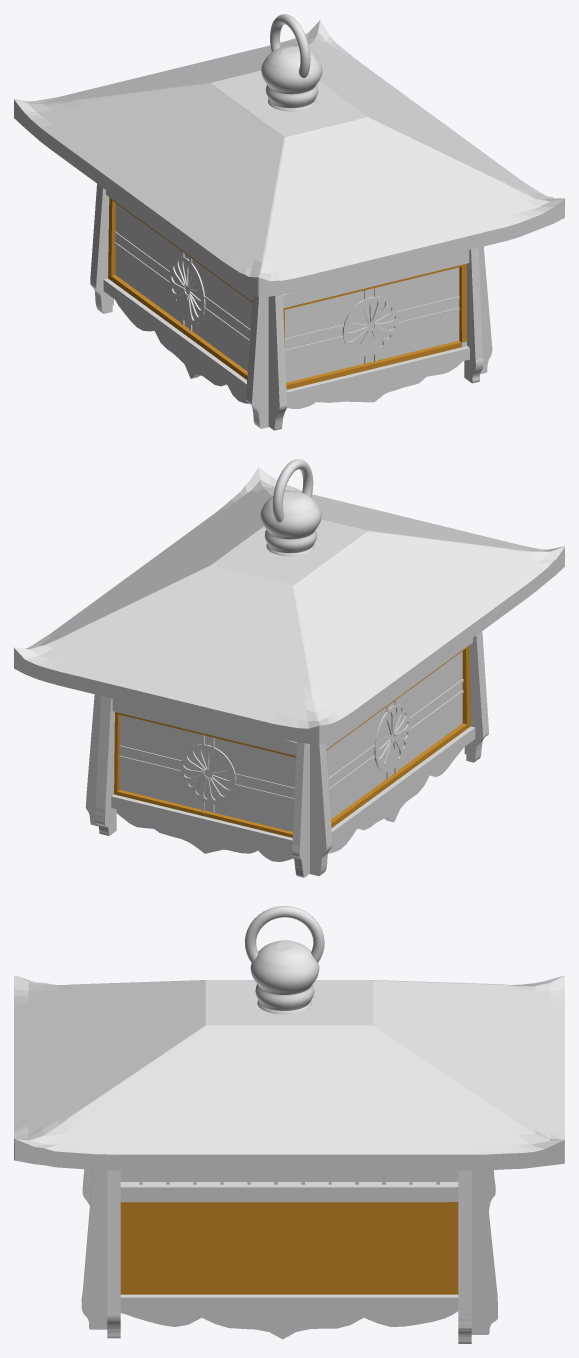
File: Japanese-Dach.fbx
The picture shows the model from 3 angles, top to bottom: view 1: azimuth 30°, elevation 25°; view 2: azimuth 150°, elevation 25°; view 3: azimuth 270°, elevation 25°; orthographic projection. The views are drawn at different scales.
Parts seen in each view (by area): view 1: Cube.002, Cube.003, Cylinder.001, Cylinder, Torus; view 2: Cube.002, Cube.003, Cylinder.004, Cylinder, Torus; view 3: Cube.002, Cube.003, Torus.
Boxes of the visible parts, x1=… form: Cube.002: x1=14, y1=20, x2=564, y2=430; Cube.003: x1=261, y1=46, x2=322, y2=111; Cylinder.001: x1=342, y1=296, x2=398, y2=356; Cylinder: x1=169, y1=256, x2=205, y2=324; Torus: x1=270, y1=14, x2=310, y2=77; Cube.002: x1=14, y1=467, x2=564, y2=877; Cube.003: x1=260, y1=491, x2=321, y2=556; Cylinder.004: x1=180, y1=744, x2=236, y2=803; Cylinder: x1=374, y1=704, x2=410, y2=772; Torus: x1=272, y1=459, x2=313, y2=522; Cube.002: x1=14, y1=975, x2=564, y2=1343; Cube.003: x1=250, y1=940, x2=319, y2=1014; Torus: x1=244, y1=906, x2=324, y2=962.
Size of the model in its own units: 729 by 764 by 1007.
